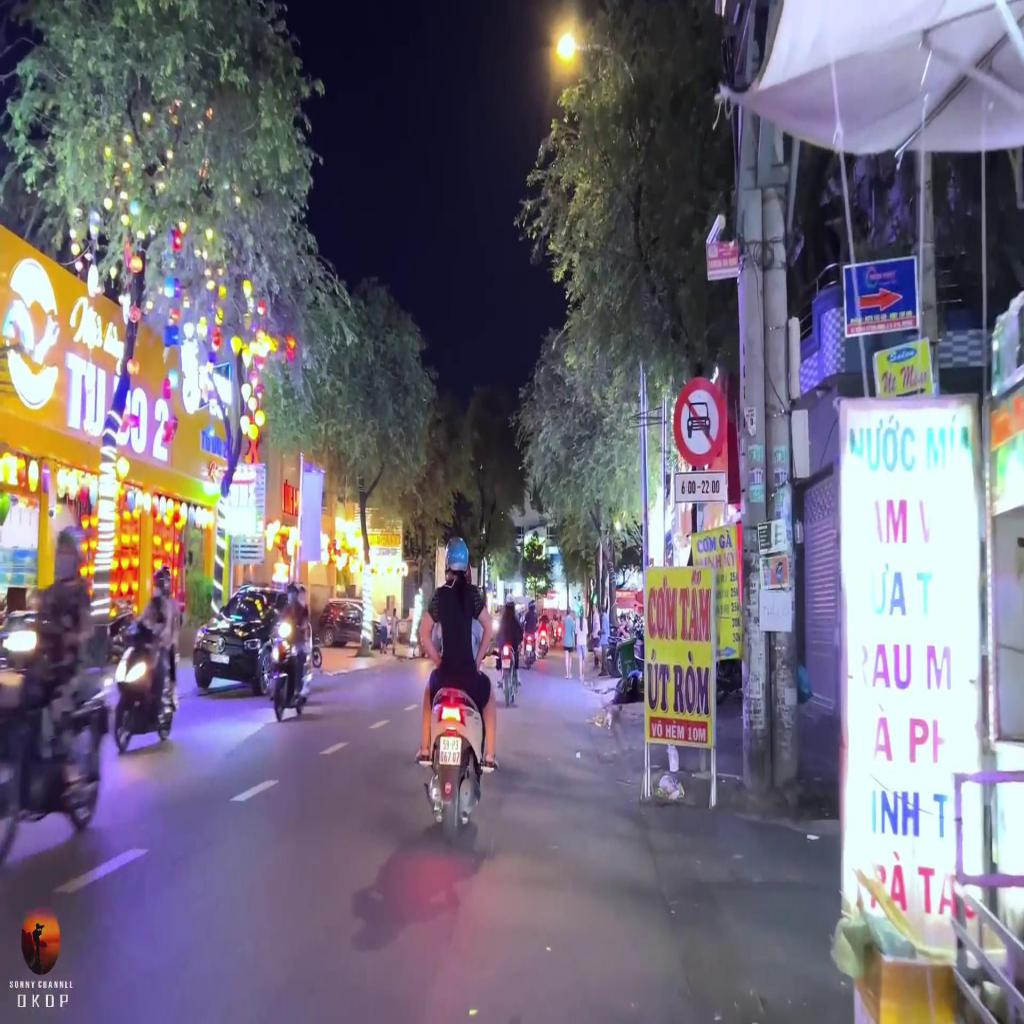cam_o_to: (673, 378, 728, 468)
khac: (676, 472, 727, 506)
